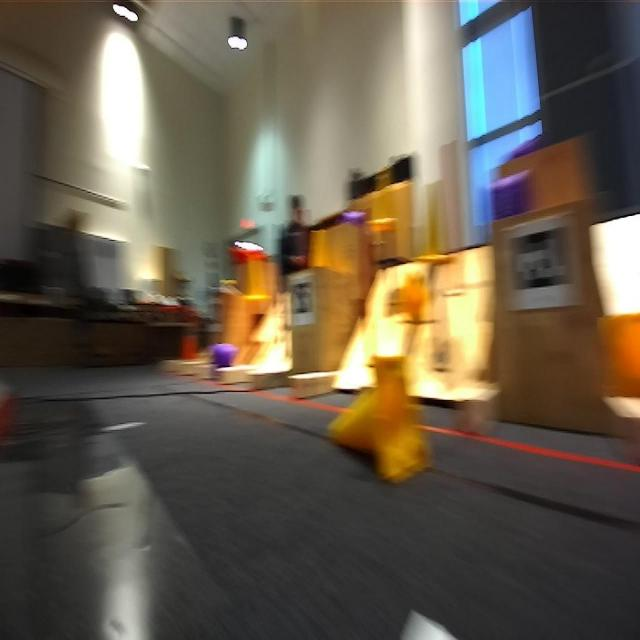frc_cone: (326, 358, 432, 483), (414, 182, 456, 268), (398, 270, 429, 320), (242, 257, 272, 305), (307, 226, 333, 272)
frc_cube: (491, 176, 531, 215), (213, 342, 238, 366), (513, 136, 543, 156), (341, 207, 366, 229)
